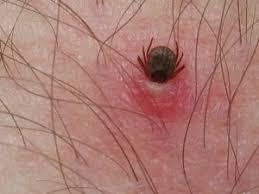Tick: (130, 36, 187, 119)
